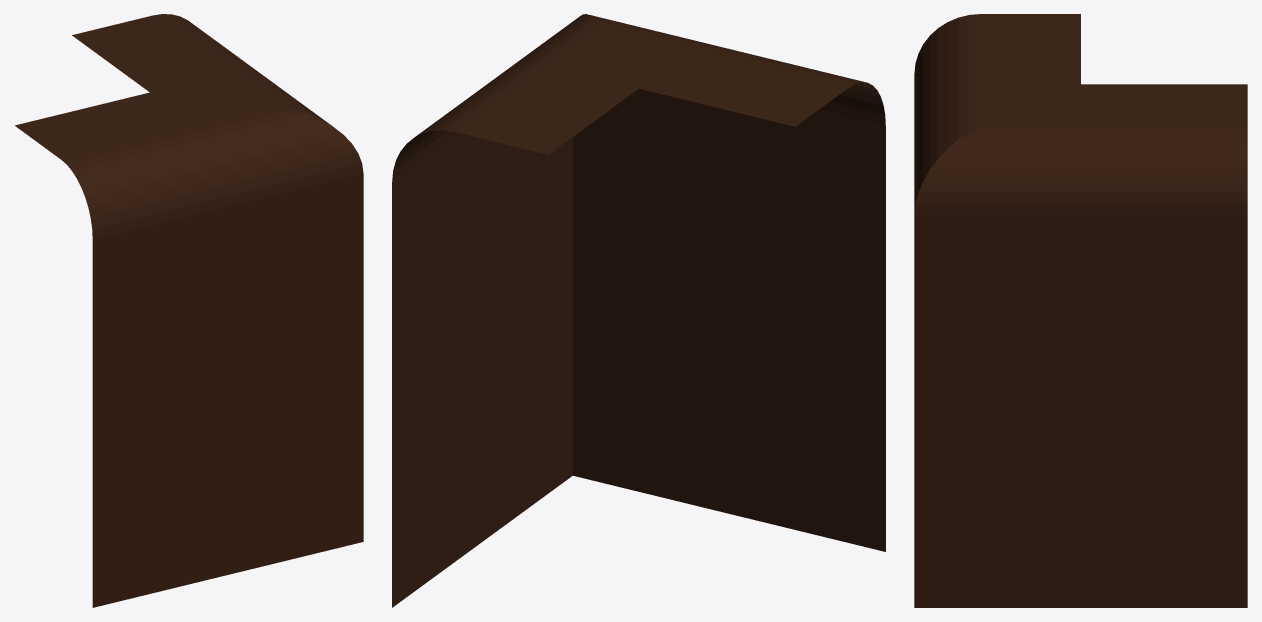
Rendered from Trim_Small_Corner.fbx.
3 renders of one model, left to right at view 1: azimuth 30°, elevation 25°; view 2: azimuth 150°, elevation 25°; view 3: azimuth 270°, elevation 25°, orthographic. The views are drawn at different scales.
Parts seen in each view (by area): view 1: Trim_Small_Corner; view 2: Trim_Small_Corner; view 3: Trim_Small_Corner.
Boxes of the visible parts, bbox=[...] form: Trim_Small_Corner: bbox=[15, 14, 363, 607]; Trim_Small_Corner: bbox=[392, 14, 885, 607]; Trim_Small_Corner: bbox=[914, 14, 1247, 607].
Bounding box in the file's own units: 10 × 15 × 10.
